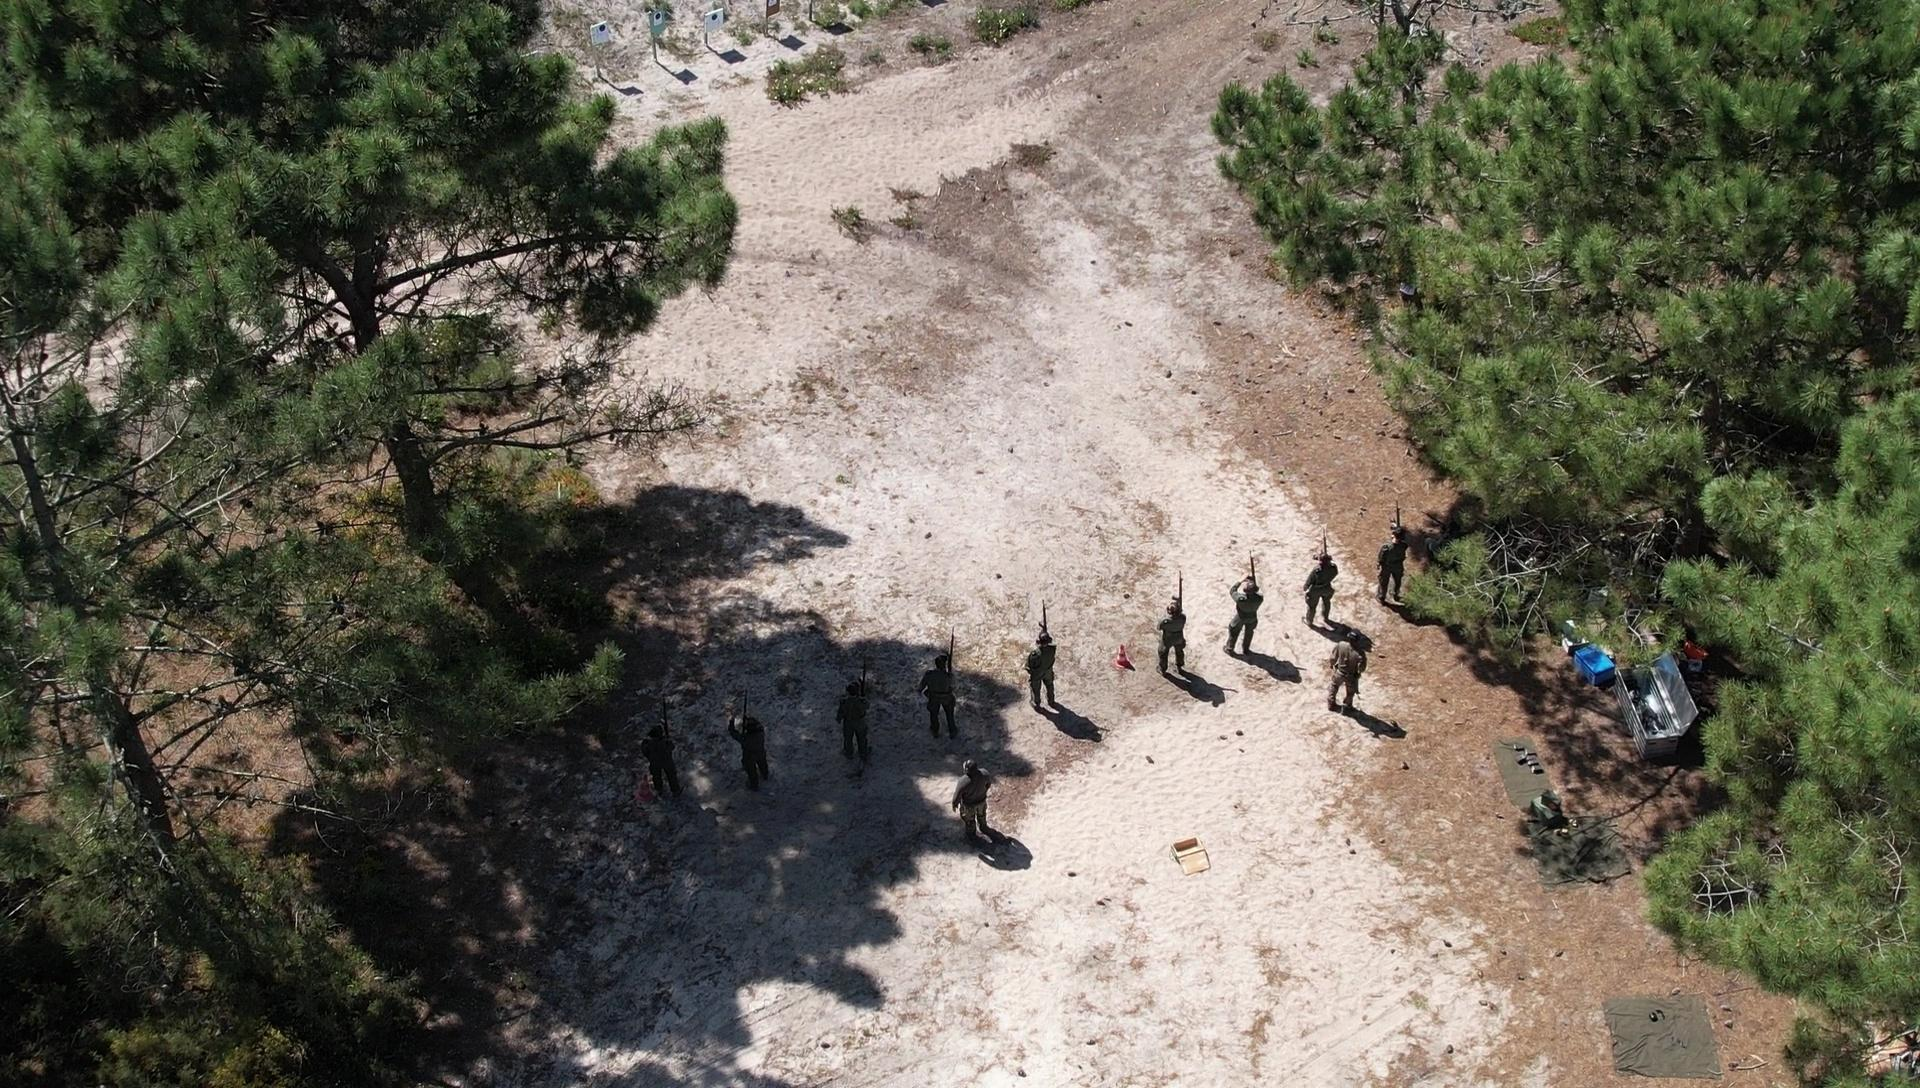Soldier: (831, 665, 886, 778), (916, 629, 967, 750), (949, 742, 1009, 843), (1022, 596, 1065, 731), (1367, 509, 1423, 608), (636, 711, 684, 818), (728, 700, 777, 804), (1217, 578, 1273, 669), (1153, 587, 1197, 698), (1304, 539, 1341, 641), (1327, 630, 1367, 721)
